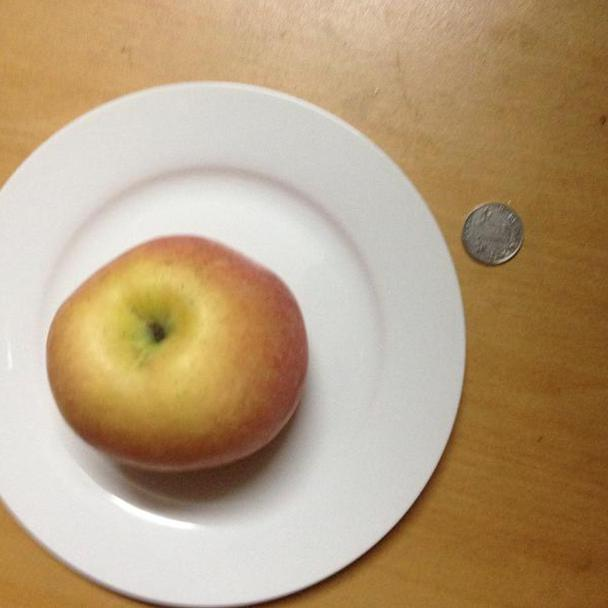apple: (45, 236, 310, 474)
